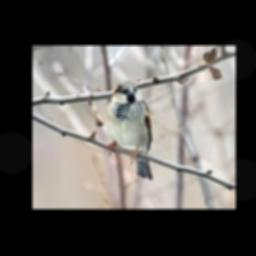Sparrow: (107, 80, 153, 179)
